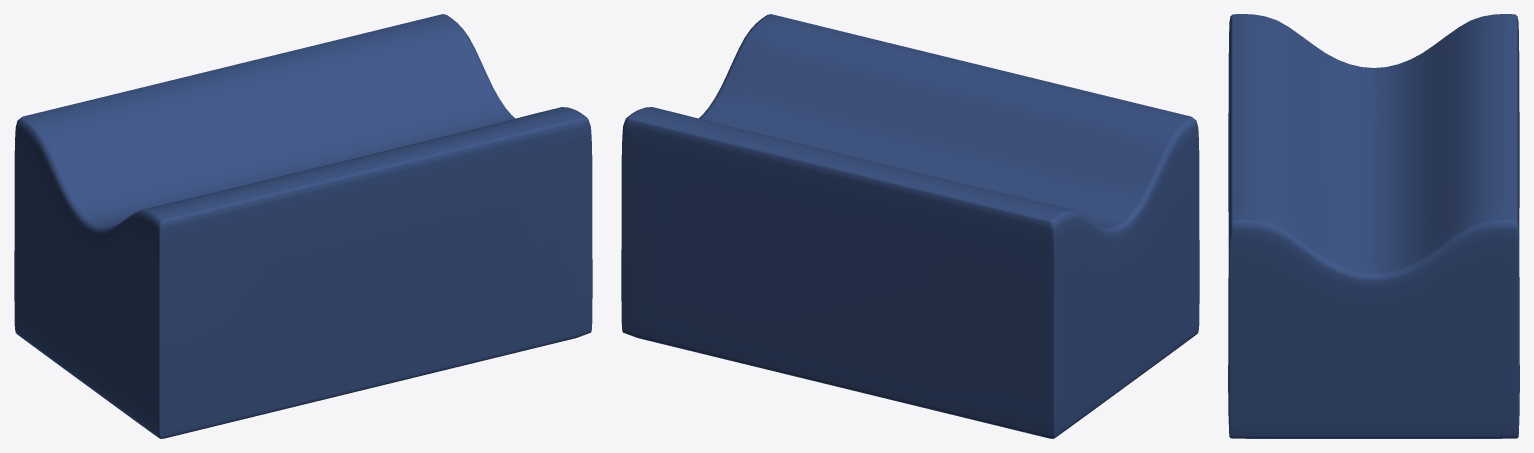
File: scale.fbx
The picture shows the model from 3 angles, left to right: view 1: azimuth 30°, elevation 25°; view 2: azimuth 150°, elevation 25°; view 3: azimuth 270°, elevation 25°; orthographic projection.
Visible parts, largest first — view 1: pasted__pasted__pCube1; view 2: pasted__pasted__pCube1; view 3: pasted__pasted__pCube1.
Part boxes in pixels (<box>): pasted__pasted__pCube1: <box>14,14,592,438</box>; pasted__pasted__pCube1: <box>621,14,1199,438</box>; pasted__pasted__pCube1: <box>1228,14,1519,438</box>.
Bounding box in the file's own units: 7.77 × 3.75 × 4.52.
